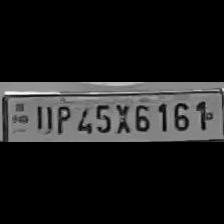1: (192, 98, 214, 132), (152, 100, 170, 134)
4: (74, 102, 92, 134)
5: (92, 100, 112, 134)
6: (168, 99, 192, 131), (130, 100, 152, 134)
P: (50, 102, 72, 134)
U: (31, 102, 51, 132)
X: (111, 100, 130, 134)
